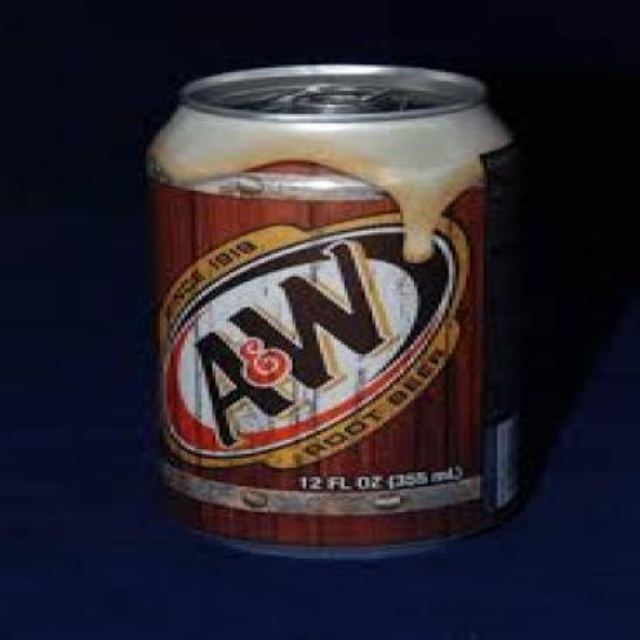trash: (148, 65, 520, 543)
